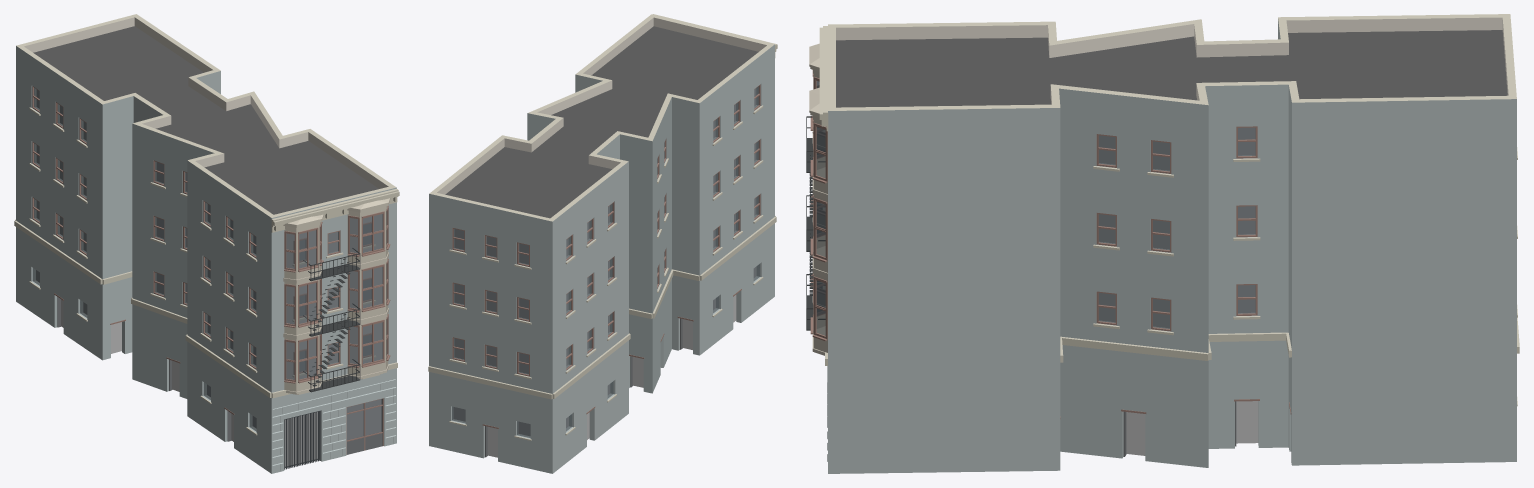
Rendered from exterior.glb.
3 views of the same model, side by side, from view 1: azimuth 30°, elevation 25°; view 2: azimuth 150°, elevation 25°; view 3: azimuth 270°, elevation 25° (orthographic). The views are drawn at different scales.
Parts seen in each view (by area): view 1: shell, roof, bay-glazing-hyb, shadow-proxy, glazing, bay-windows-hyb, trim, storefront, frames, fire-escape, hyD-rubble-0; view 2: shell, roof, glazing, trim, shadow-proxy, frames, storefront; view 3: shell, roof, shadow-proxy, trim, glazing, bay-glazing-hyb, bay-windows-hyb, frames, fire-escape.
Part boxes in pixels (box(x1,y1,x2,y2)): shell: box(16, 14, 396, 473); roof: box(33, 26, 378, 214); bay-glazing-hyb: box(284, 205, 390, 383); shadow-proxy: box(36, 90, 382, 466); glazing: box(33, 88, 382, 440); bay-windows-hyb: box(283, 198, 390, 394); trim: box(14, 107, 399, 435); storefront: box(54, 293, 383, 469); frames: box(32, 86, 371, 374); fire-escape: box(303, 248, 360, 392); hyD-rubble-0: box(272, 379, 395, 470); shell: box(429, 14, 774, 473); roof: box(445, 26, 758, 218); glazing: box(452, 86, 759, 437); trim: box(428, 14, 777, 440); shadow-proxy: box(454, 89, 756, 457); frames: box(452, 84, 760, 376); storefront: box(482, 289, 741, 457); shell: box(828, 14, 1516, 473); roof: box(836, 30, 1507, 107); shadow-proxy: box(1099, 128, 1258, 455); trim: box(819, 26, 1519, 406); glazing: box(1099, 127, 1255, 328); bay-glazing-hyb: box(810, 70, 827, 341); bay-windows-hyb: box(809, 43, 827, 355); frames: box(1096, 126, 1257, 331); fire-escape: box(806, 116, 825, 330).
Bounding box in the file's own units: 9.82 × 16.9 × 30.12.
